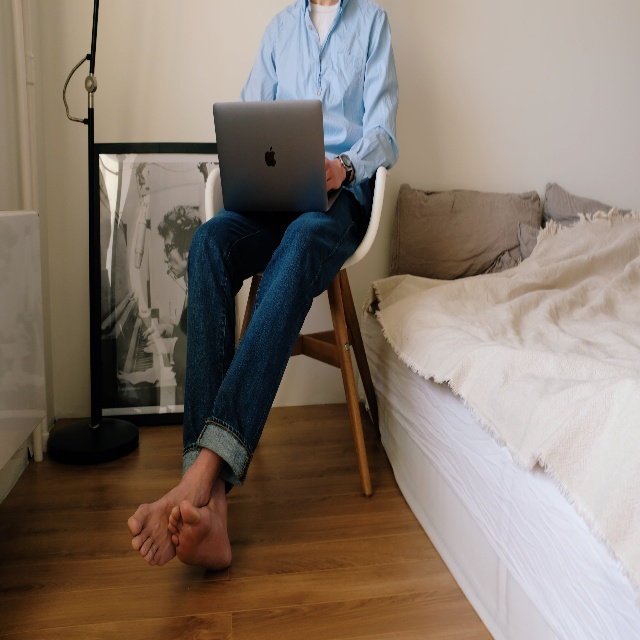Sin_guantes: (325, 157, 343, 192)
